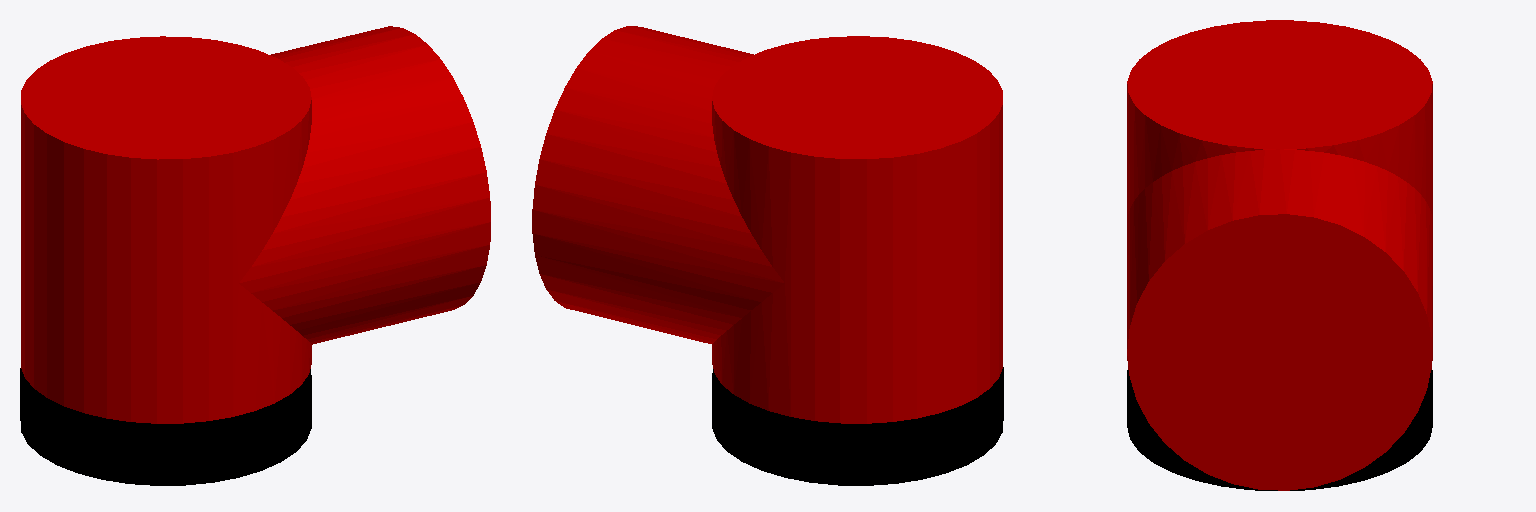
robot.urdf — node00:
<?xml version="1.0"?>
<robot  name="node00" >
 <material  name="blue" >
  <color  rgba="0 0 0.8 1.0" />
 </material>
 <material  name="red" >
  <color  rgba="0.8 0 0 1.0" />
 </material>
 <material  name="black" >
  <color  rgba="0.0 0.0 0.0 1.0" />
 </material>
 <link  name="root_mod" >
  <visual >
   <origin  rpy="0 0 0"  xyz="0 0 0" />
   <material  name="black" />
   <geometry >
    <cylinder  radius="0.05"  length="0.02" />
   </geometry>
  </visual>
 </link>
 <link  name="jointMod_1" >
  <inertial >
   <origin  rpy="1.5707963267948963 0.0 0.0"  xyz="0.0 7.771561172376096e-19 0.0035" />
   <mass  value="0.6" />
   <inertia  ixz="0.0"  iyz="0.0"  iyy="0.0007418180000000001"  ixy="0.0"  ixx="0.0007418180000000001"  izz="0.0011127270000000002" />
  </inertial>
  <visual >
   <origin  rpy="1.5707963267948963 0.0 0.0"  xyz="0.0 7.771561172376096e-19 0.0035" />
   <material  name="red" />
   <geometry >
    <mesh  scale="0.001 0.001 0.001"  filename="./meshes/j_module.obj" />
   </geometry>
  </visual>
 </link>
 <joint  type="revolute"  name="joint_1_revolute" >
  <parent  link="root_mod" />
  <child  link="jointMod_1" />
  <origin  rpy="0 0 0"  xyz="0.0 0.0 0.01" />
  <axis  xyz="0.0 0.0 1.0" />
 </joint>
 <transmission  name="act_joint_1_revolute" >
  <type  xmltext="SimpleTransmission" >
   SimpleTransmission
  </type>
  <actuator  name="trans_joint_1_revolute" >
   <mechanicalreduction  xmltext="1" >
    1
   </mechanicalreduction>
  </actuator>
  <joint  name="joint_1_revolute" />
 </transmission>
 <link  name="eef" />
 <joint  type="fixed"  name="eef_joint" >
  <parent  link="jointMod_1" />
  <child  link="eef" />
  <origin  rpy="0 0 0"  xyz="0.03 -0.0002999999999999882 0.053000000000000005" />
  <axis  xyz="1.0 0.0 0.0" />
 </joint>
</robot>

--- Render facts (derived) ---
The picture shows the robot from 3 angles, left to right: view 1: azimuth 30°, elevation 25°; view 2: azimuth 150°, elevation 25°; view 3: azimuth 270°, elevation 25°; orthographic projection.
Robot: node00 — 3 links, 2 joints (1 revolute, 1 fixed); root link root_mod; default pose: all joints at 0.
Links seen in each view (by area): view 1: jointMod_1, root_mod; view 2: jointMod_1, root_mod; view 3: jointMod_1, root_mod.
Link boxes in pixels (x1,y1,x2,y2): jointMod_1: (21, 26, 490, 423); root_mod: (20, 368, 311, 485); jointMod_1: (532, 26, 1002, 423); root_mod: (712, 367, 1003, 485); jointMod_1: (1127, 20, 1432, 490); root_mod: (1127, 370, 1432, 490).
Bounding box of the posed robot: 0.15 × 0.1 × 0.1235 m (x, y, z).
1 mesh visuals loaded from 1 distinct referenced files (1 OBJ).